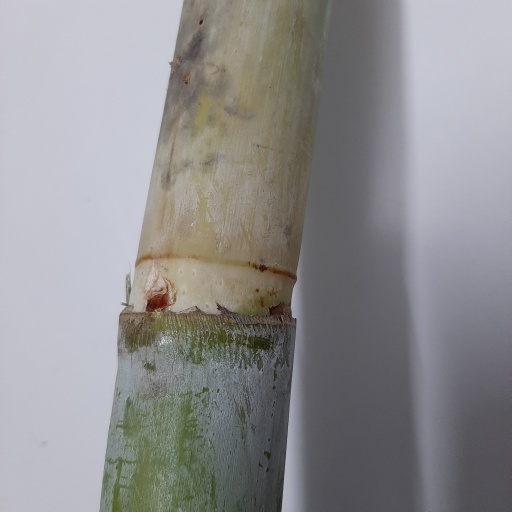Damage_Bud: (143, 277, 177, 312)
